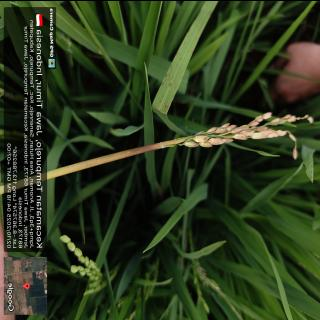Busuk-Pelepah: (116, 140, 165, 160)
